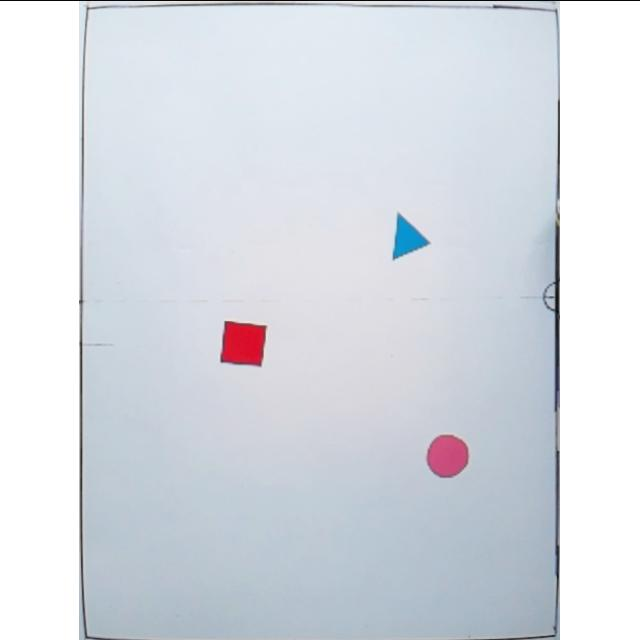blueTriangle: (392, 210, 432, 260)
pinkCircle: (426, 432, 470, 476)
redSquare: (222, 319, 268, 367)
